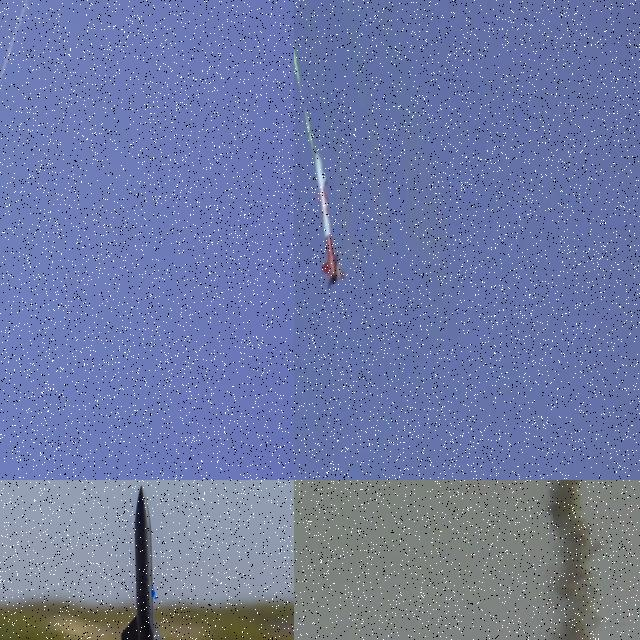Rocket: (117, 484, 166, 640), (314, 145, 348, 292)
